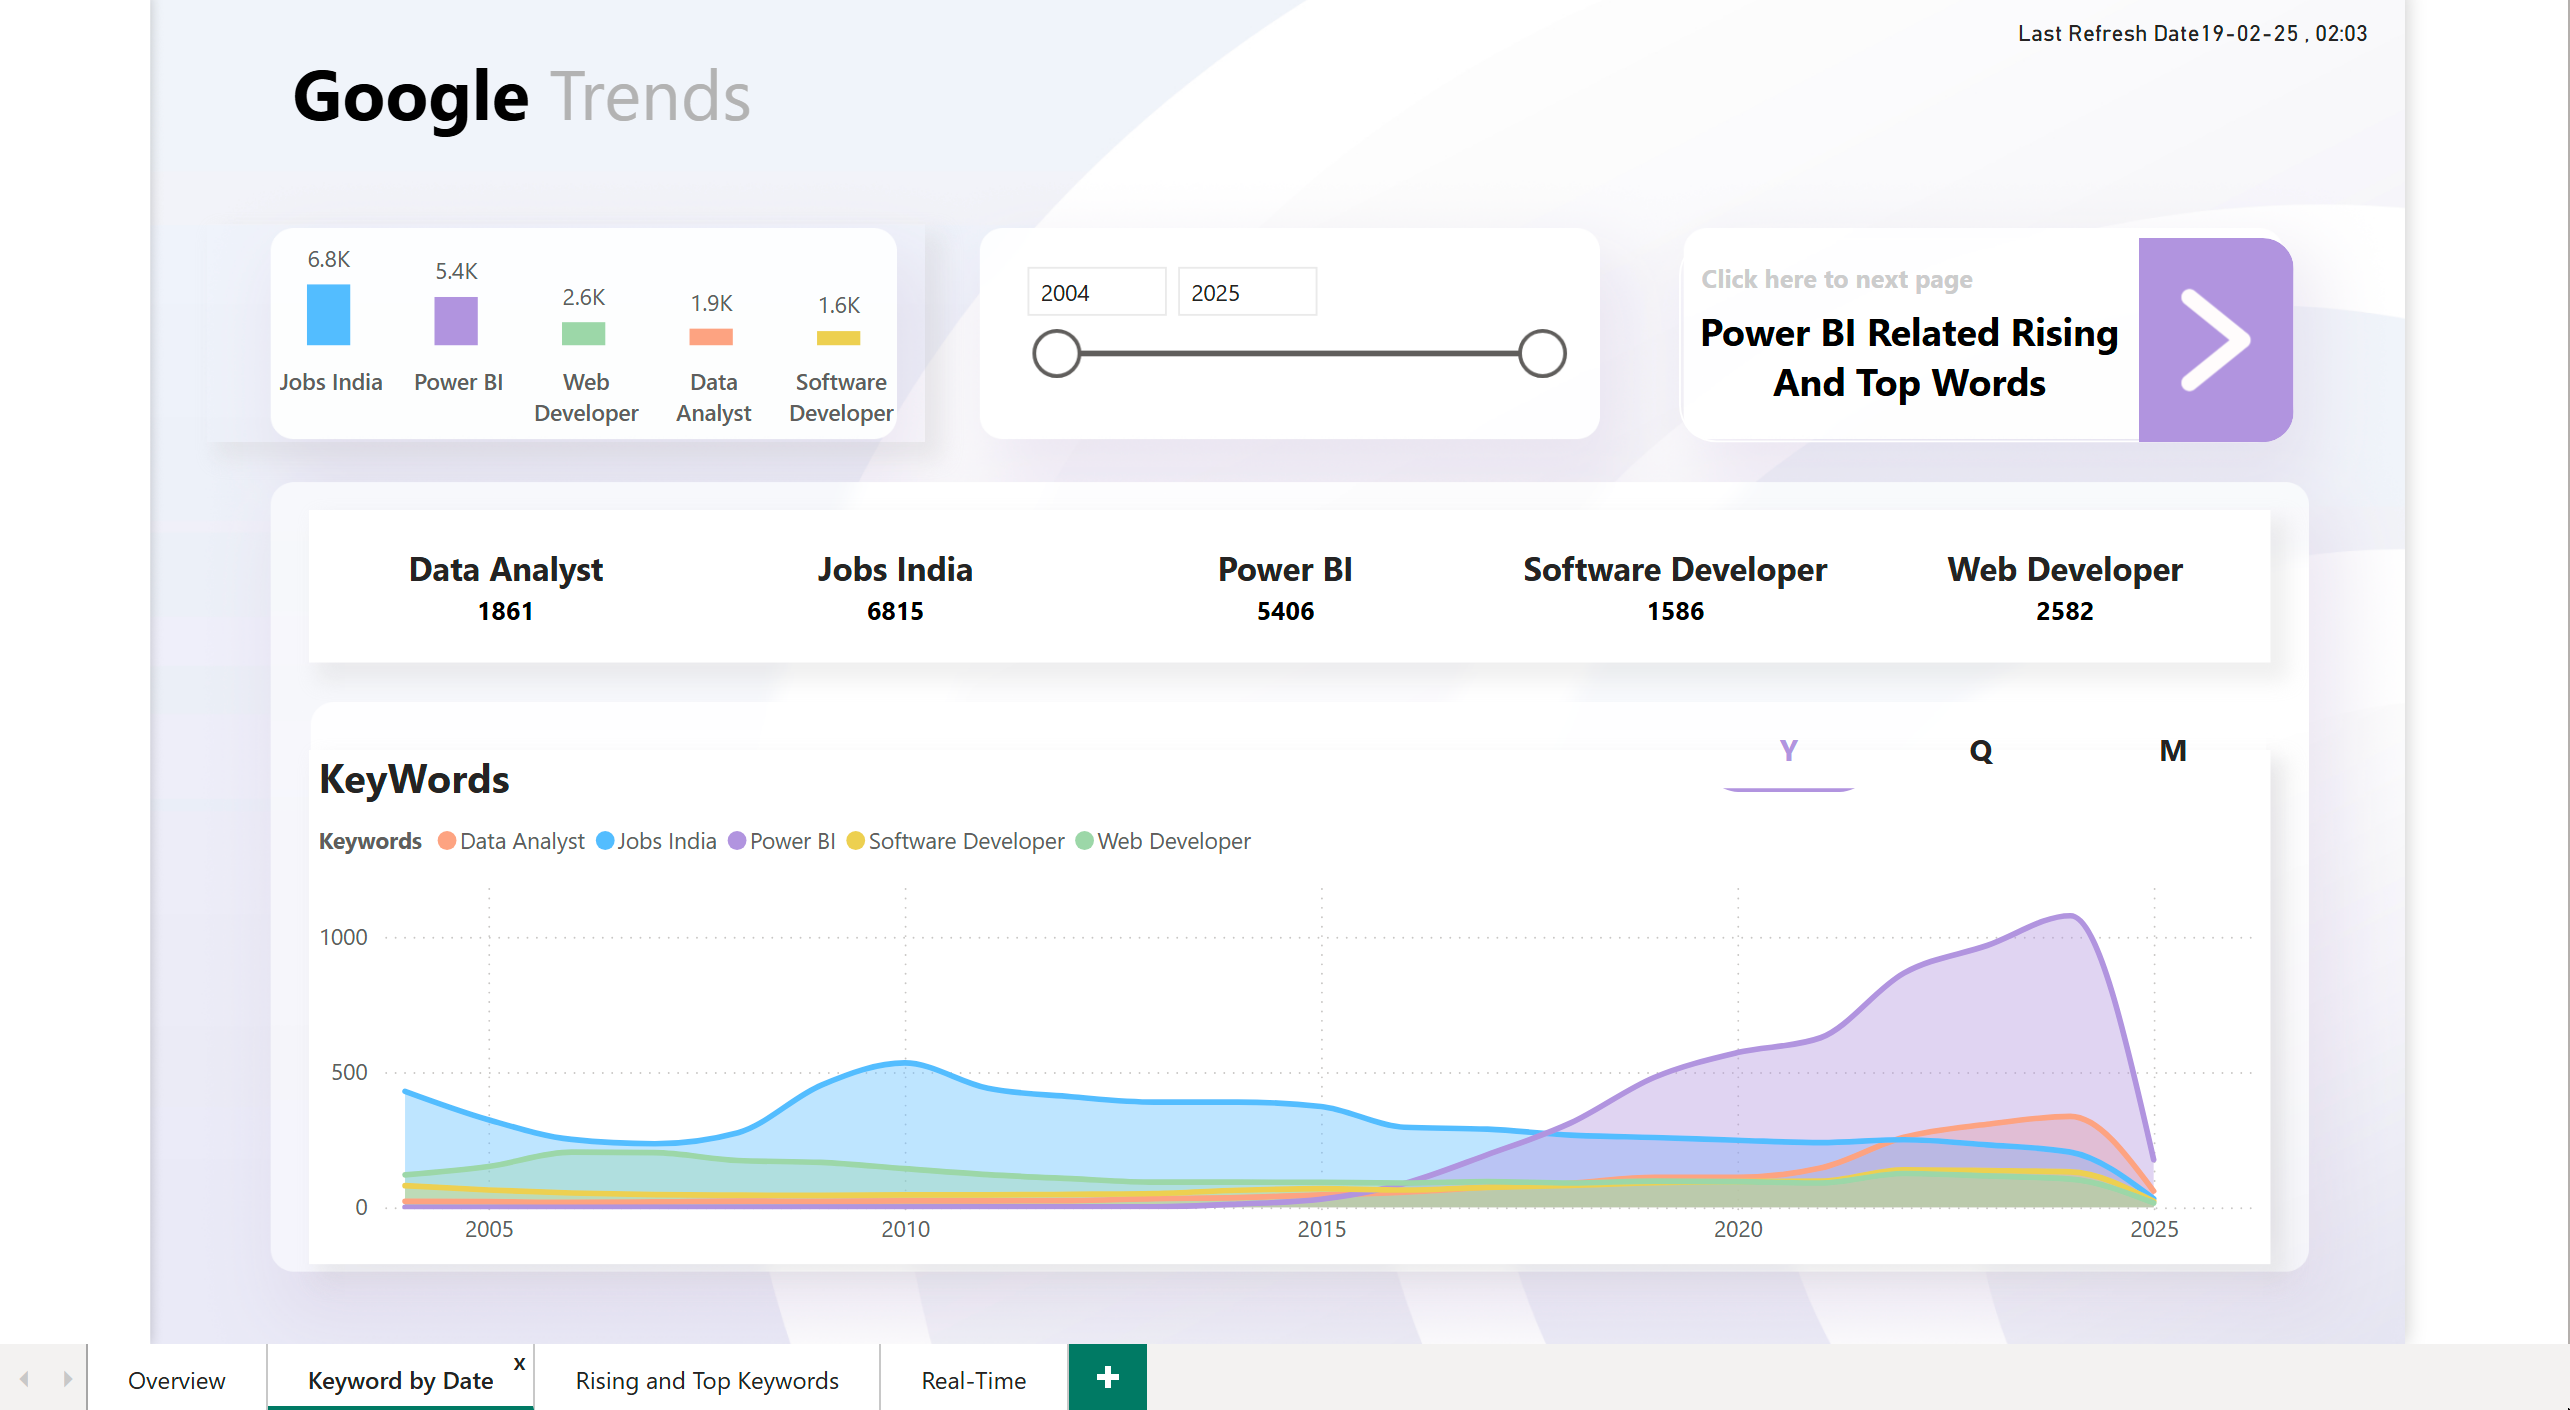

This screenshot's page, from the dashboard's own definition file:
{"tool":"powerbi","page":{"name":"Keyword by Date","canvas":[1280,720],"ordinal":1},"visuals":[{"type":"lineChart","title":"KeyWords","fields":{"Category":["By_Date_API.Year"],"Y":["By_Date_API.By_Date_Value"],"Series":["By_Date_API.Keywords"]},"box":[167.1,404.4,1041.7,272.8],"z":0},{"type":"advancedSlicerVisual","fields":{"Values":["Dynamic_Date.Dynamic_Date"]},"box":[900.4,375.3,308.4,57.2],"z":1000},{"type":"advancedSlicerVisual","fields":{"Values":["By_Date_API.Keywords"]},"box":[167.2,276.7,1041.5,81.2],"z":2000},{"type":"clusteredColumnChart","fields":{"Y":["By_Date_API.By_Date_Value"],"Category":["By_Date_API.Keywords"]},"box":[112.1,125.1,381.7,115.4],"z":3000},{"type":"slicer","fields":{"Values":["By_Date_API.Year"]},"box":[534.9,137.7,307.4,103.3],"z":4000},{"type":"textbox","box":[893.9,132.3,326.6,108.5],"z":5000},{"type":"textbox","box":[152.9,24.4,467.3,92.4],"z":6000},{"type":"card","fields":{"Values":["Min(Refresh_Date.Refresh_Date)"]},"box":[1054.7,0,225.3,51.2],"z":8000},{"type":"shape","box":[893.9,150,244.7,91],"z":9000},{"type":"actionButton","box":[1138.2,132.3,82.2,108.5],"z":9500}]}

Visuals, with their boxes on the page's 1280x720 design canvas (x1, y1, x2, y2). These are canvas units, not pixel positions in the 2570x1410 screenshot, which may show the page scaled, cropped or inside an application window:
"KeyWords" lineChart: (left=167, top=404, right=1209, bottom=677)
advancedSlicerVisual - Dynamic_Date.Dynamic_Date: (left=900, top=375, right=1209, bottom=432)
advancedSlicerVisual - By_Date_API.Keywords: (left=167, top=277, right=1209, bottom=358)
clusteredColumnChart - By_Date_API.By_Date_Value x By_Date_API.Keywords: (left=112, top=125, right=494, bottom=240)
slicer - By_Date_API.Year: (left=535, top=138, right=842, bottom=241)
textbox: (left=894, top=132, right=1220, bottom=241)
textbox: (left=153, top=24, right=620, bottom=117)
card - Min(Refresh_Date.Refresh_Date): (left=1055, top=0, right=1280, bottom=51)
shape: (left=894, top=150, right=1139, bottom=241)
actionButton: (left=1138, top=132, right=1220, bottom=241)
